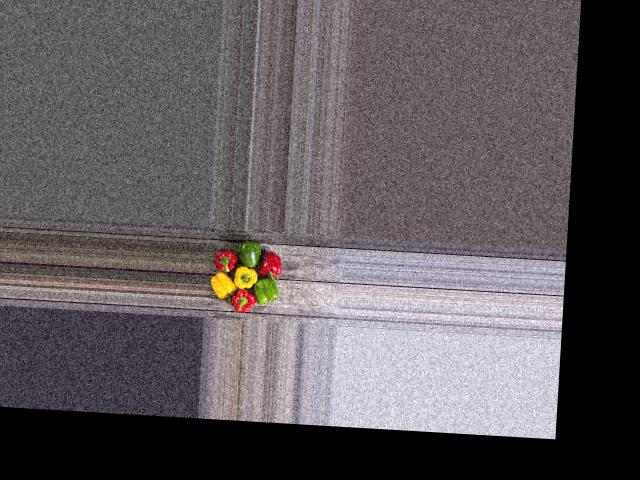bell_pepper: (208, 248, 237, 277)
